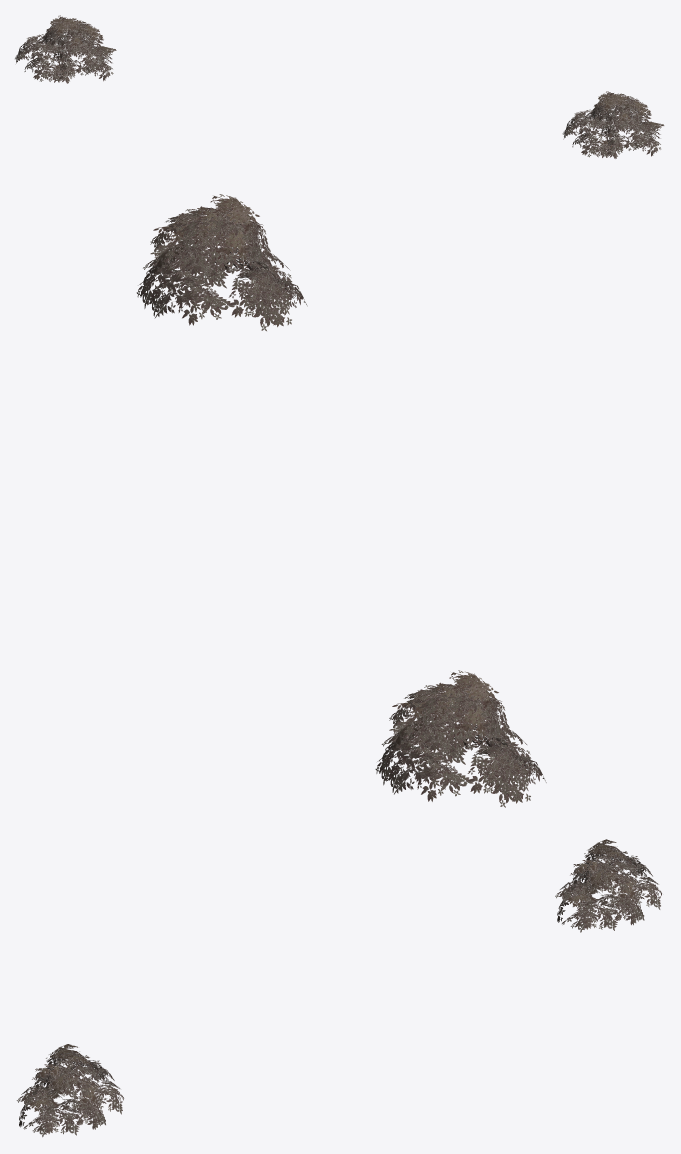
Rendered from Area14_12.FBX.
The picture shows the model from 3 angles, top to bottom: view 1: azimuth 30°, elevation 25°; view 2: azimuth 150°, elevation 25°; view 3: azimuth 270°, elevation 25°; orthographic projection. The views are drawn at different scales.
Visible parts, largest first — view 1: Area14_12; view 2: Area14_12; view 3: Area14_12.
Boxes of the visible parts, x1,y1,x2,y2 form: Area14_12: [15, 15, 664, 158]; Area14_12: [136, 194, 546, 807]; Area14_12: [16, 839, 661, 1137].
Size of the model in its own units: 1985 by 263 by 2140.
